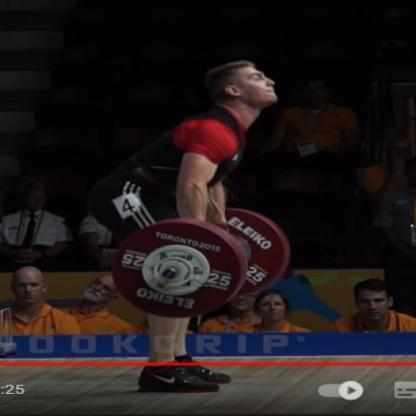barbell: (110, 206, 291, 320)
